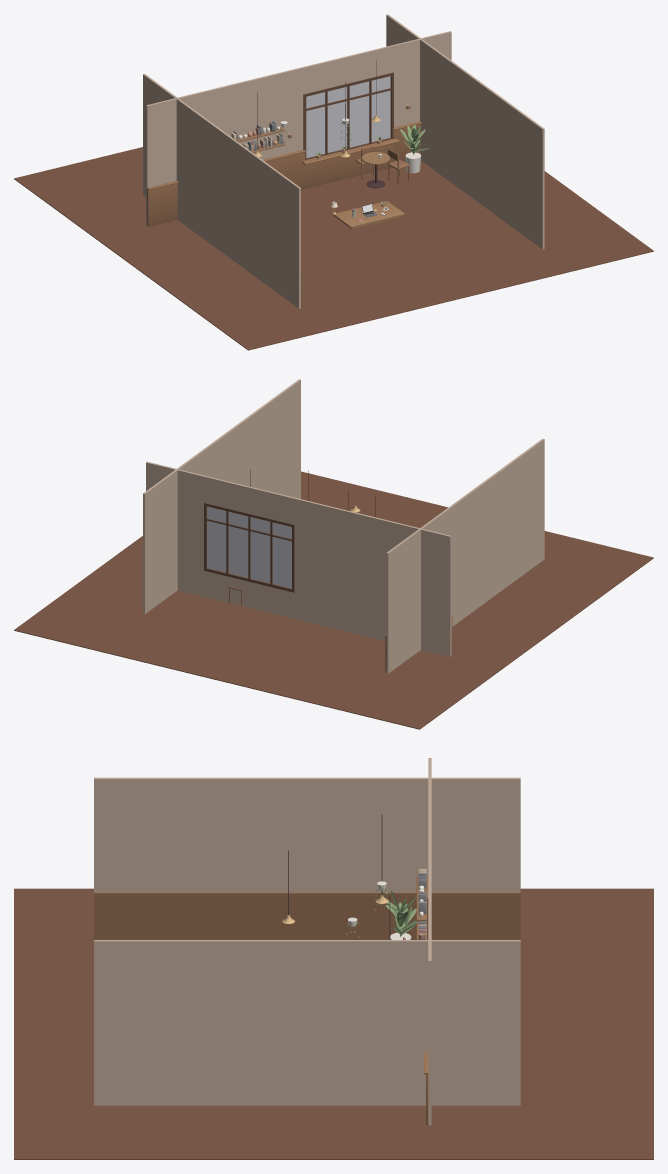
File: desk.glb
3 views of the same model, one above another, from view 1: azimuth 30°, elevation 25°; view 2: azimuth 150°, elevation 25°; view 3: azimuth 270°, elevation 25° (orthographic). The views are drawn at different scales.
Parts seen in each view (by area): view 1: Floor, LeftWall, RightWall, BackWallL, WindowGlass, BackWallR, BackWallTop, WainscotL, WindowFrame, WainscotLow, Table; view 2: Floor, LeftWall, BackWallL, RightWall, WindowGlass, BackWallR, BackWallTop, BackWallLow, WindowFrame; view 3: Floor, RightWall, LeftWall, WainscotLeft, BackWallR, FloorPlantLeaves.
Part boxes in pixels (x1=…): Floor: x1=14, y1=147, x2=653, y2=350; LeftWall: x1=143, y1=74, x2=300, y2=308; RightWall: x1=386, y1=14, x2=544, y2=249; BackWallL: x1=146, y1=67, x2=304, y2=225; WindowGlass: x1=306, y1=76, x2=390, y2=158; BackWallR: x1=391, y1=31, x2=451, y2=127; BackWallTop: x1=304, y1=45, x2=392, y2=93; WainscotL: x1=147, y1=152, x2=305, y2=226; WindowFrame: x1=303, y1=72, x2=393, y2=159; WainscotLow: x1=305, y1=144, x2=393, y2=188; Table: x1=333, y1=201, x2=404, y2=228; Floor: x1=14, y1=471, x2=653, y2=729; LeftWall: x1=386, y1=438, x2=544, y2=673; BackWallL: x1=293, y1=497, x2=451, y2=656; RightWall: x1=143, y1=379, x2=300, y2=614; WindowGlass: x1=207, y1=506, x2=291, y2=588; BackWallR: x1=146, y1=461, x2=205, y2=596; BackWallTop: x1=205, y1=476, x2=293, y2=524; BackWallLow: x1=205, y1=571, x2=293, y2=618; WindowFrame: x1=204, y1=503, x2=294, y2=592; Floor: x1=14, y1=888, x2=653, y2=1159; RightWall: x1=94, y1=940, x2=520, y2=1105; LeftWall: x1=94, y1=777, x2=520, y2=892; WainscotLeft: x1=94, y1=892, x2=520, y2=939; BackWallR: x1=428, y1=921, x2=431, y2=1125; FloorPlantLeaves: x1=384, y1=890, x2=416, y2=936.
Bounding box in the file's own units: 12 × 3.53 × 12.
